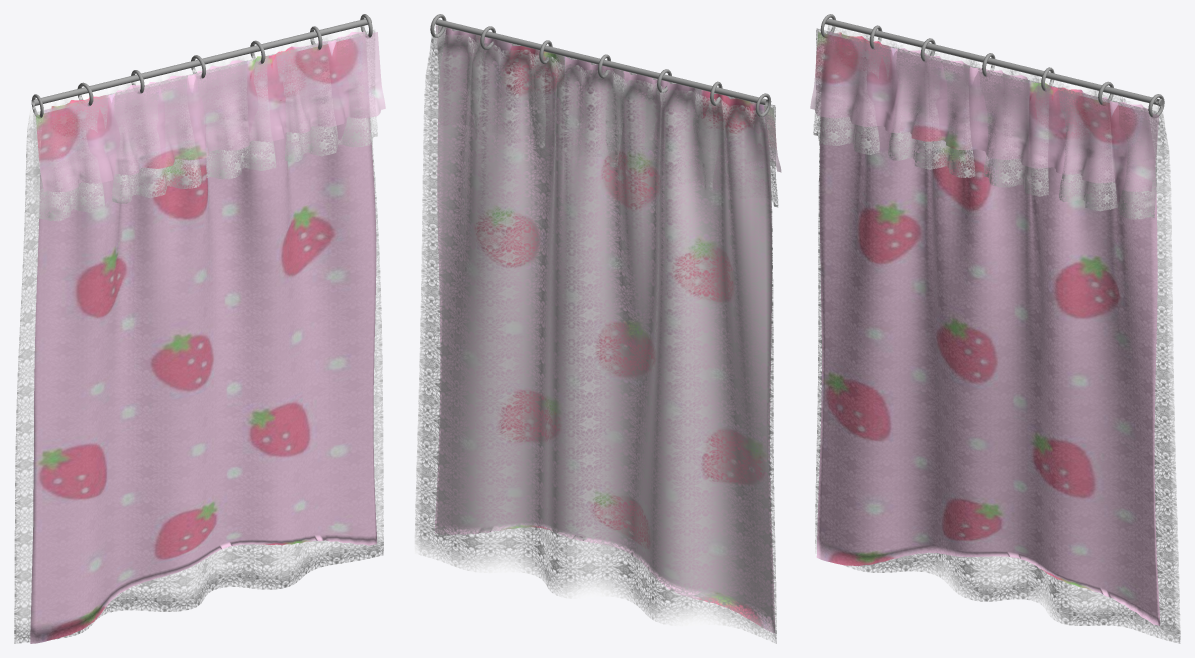
Rendered from curtain.glb.
3 views of the same model, side by side, from view 1: azimuth 30°, elevation 25°; view 2: azimuth 150°, elevation 25°; view 3: azimuth 330°, elevation 25° (orthographic).
Visible parts, largest first — view 1: Plane.033_Baked.001; view 2: Plane.033_Baked.001; view 3: Plane.033_Baked.001.
Part boxes in pixels (bbox=[...]): Plane.033_Baked.001: bbox=[14, 14, 385, 643]; Plane.033_Baked.001: bbox=[414, 14, 781, 643]; Plane.033_Baked.001: bbox=[810, 14, 1180, 643].
Size of the model in its own units: 9.24 by 13.15 by 1.43.
Materials: 2 (2 with a texture image).
